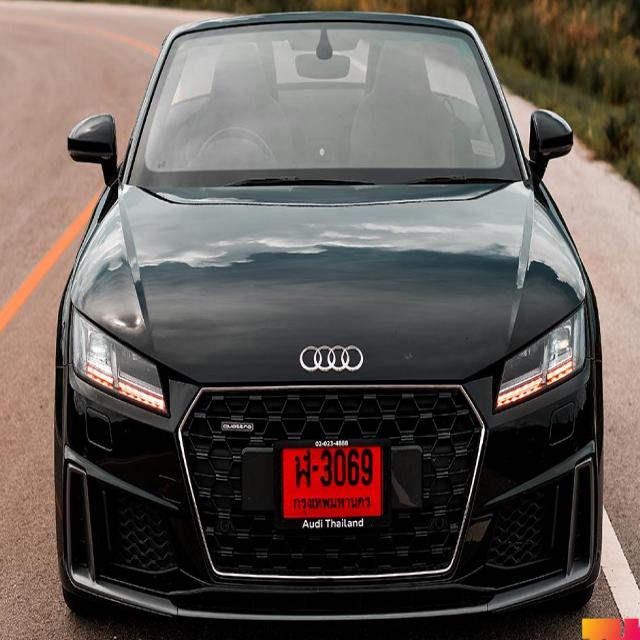license_plate: (269, 442, 393, 528)
